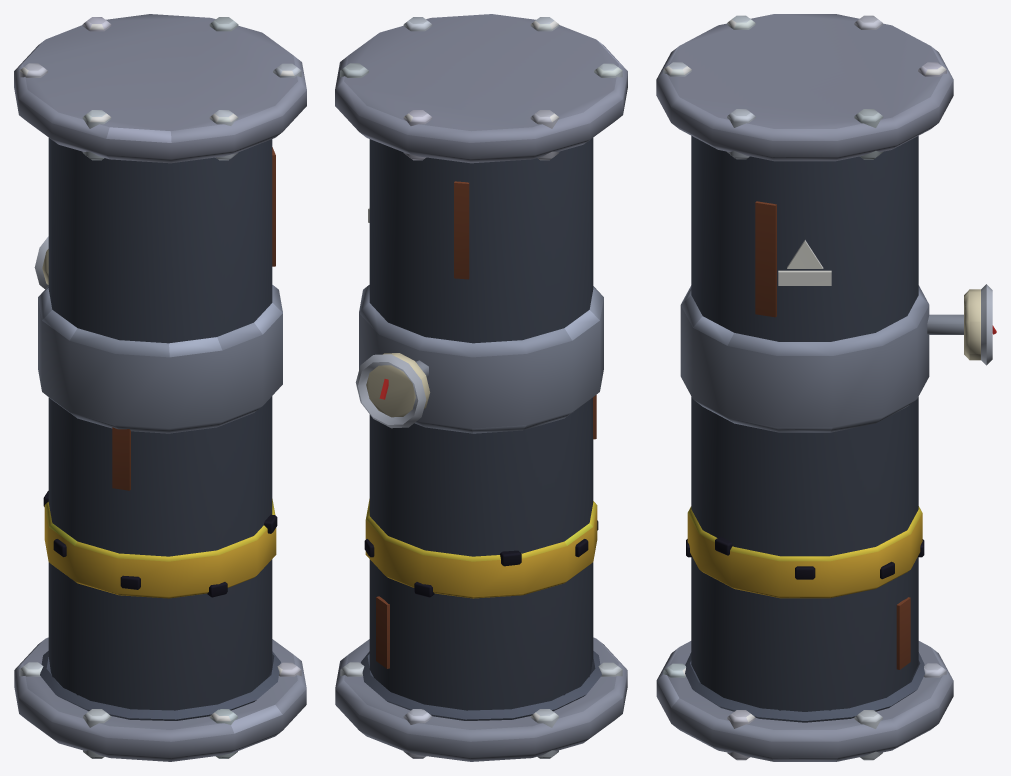
The model's file is SM_Station_FloodValve_Pipe.fbx.
3 views of the same model, side by side, from view 1: azimuth 30°, elevation 25°; view 2: azimuth 150°, elevation 25°; view 3: azimuth 270°, elevation 25° (orthographic).
Visible parts, largest first — view 1: SM_Station_FloodValve_Pipe; view 2: SM_Station_FloodValve_Pipe; view 3: SM_Station_FloodValve_Pipe.
Boxes of the visible parts, x1,y1,x2,y2 form: SM_Station_FloodValve_Pipe: (14,14,306,761); SM_Station_FloodValve_Pipe: (335,14,627,761); SM_Station_FloodValve_Pipe: (656,14,996,761).
Size of the model in its own units: 33.23 by 81.49 by 39.
